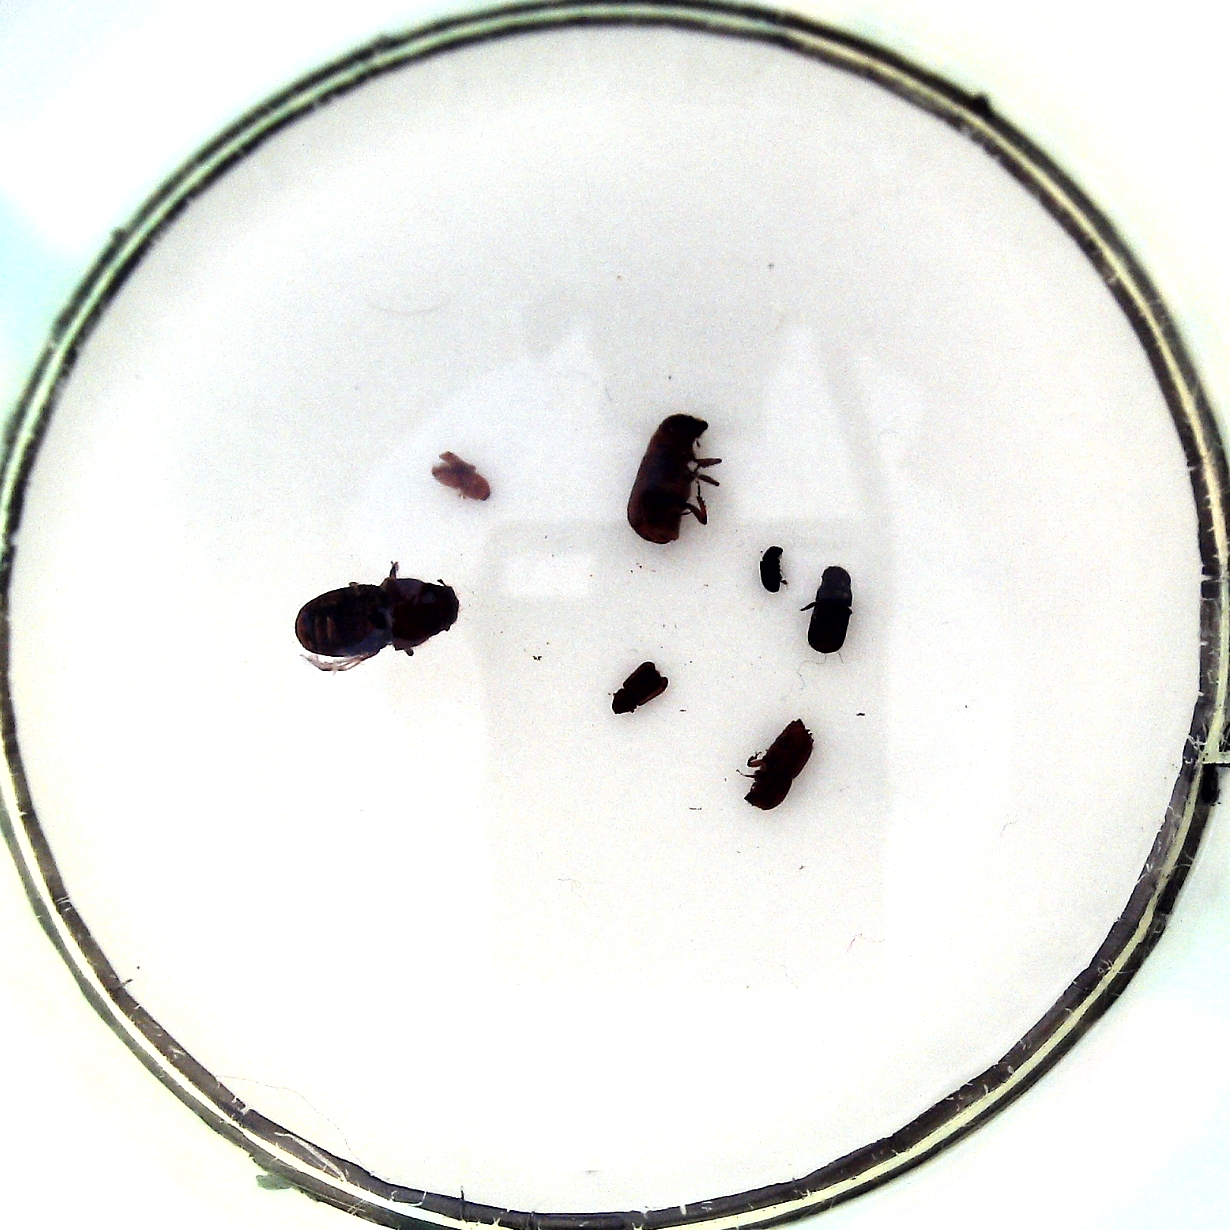Leconte: (295, 578, 460, 658), (626, 415, 708, 546)
acuminatus: (760, 546, 784, 592)
armandi: (806, 565, 853, 653)
coleoptera: (431, 451, 491, 503), (612, 661, 669, 715)
linnaeus: (743, 719, 814, 809)
